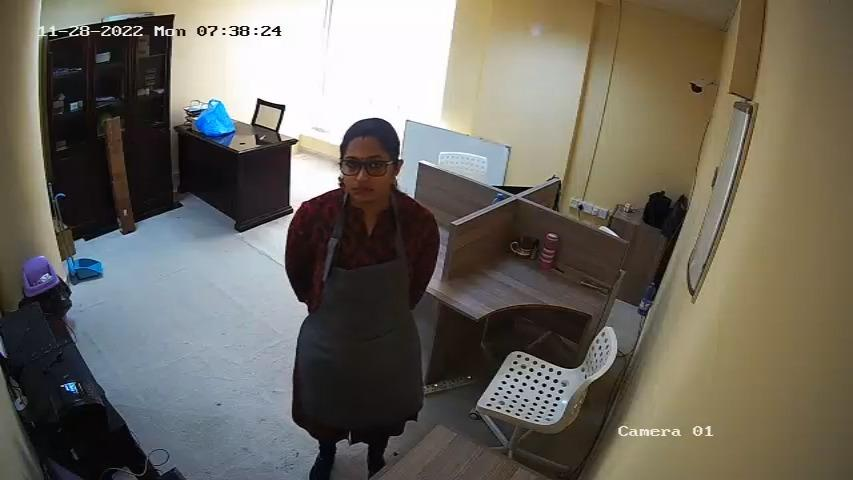apron: (304, 212, 415, 421)
